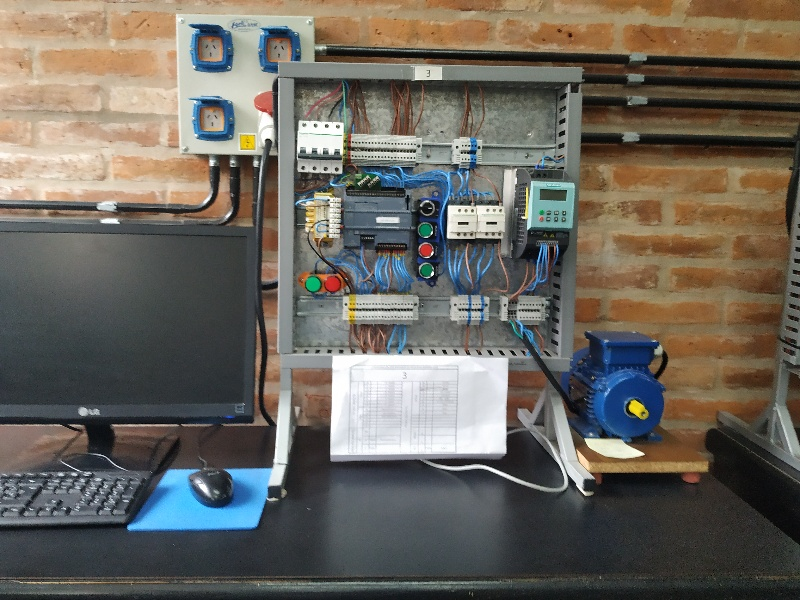Tablero 3: (288, 71, 576, 366)
